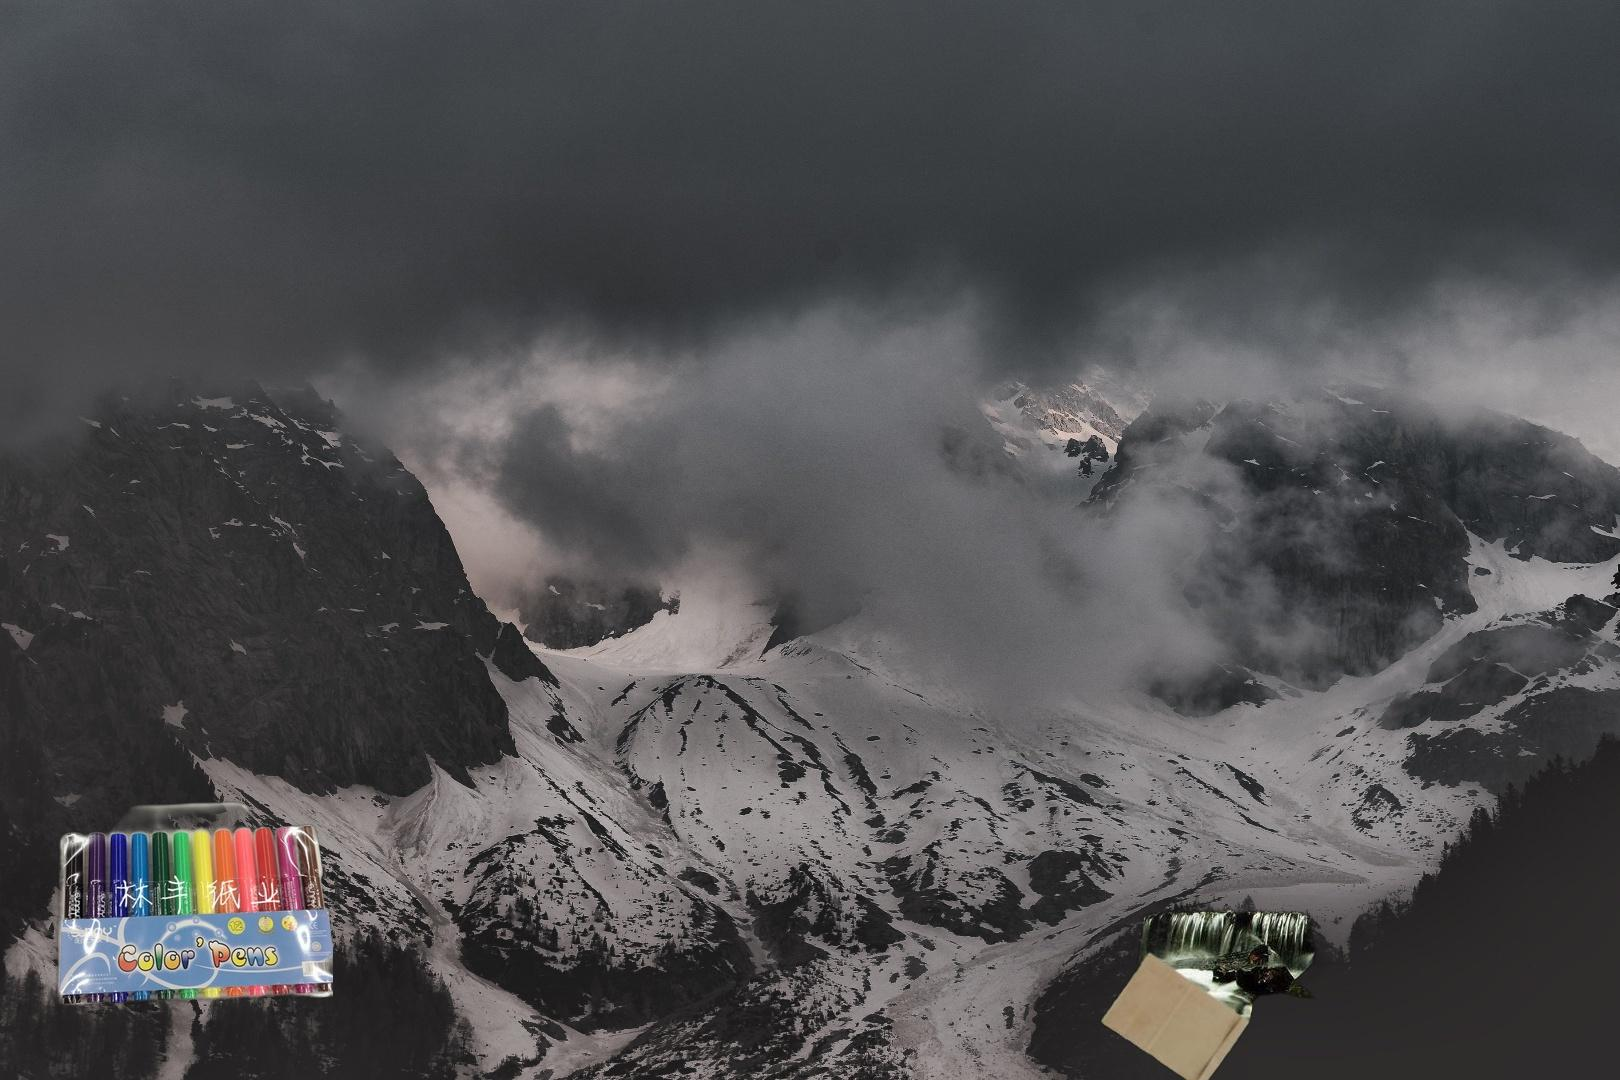paper-bag: (1082, 839, 1370, 1080)
penholder: (33, 712, 333, 1012)
